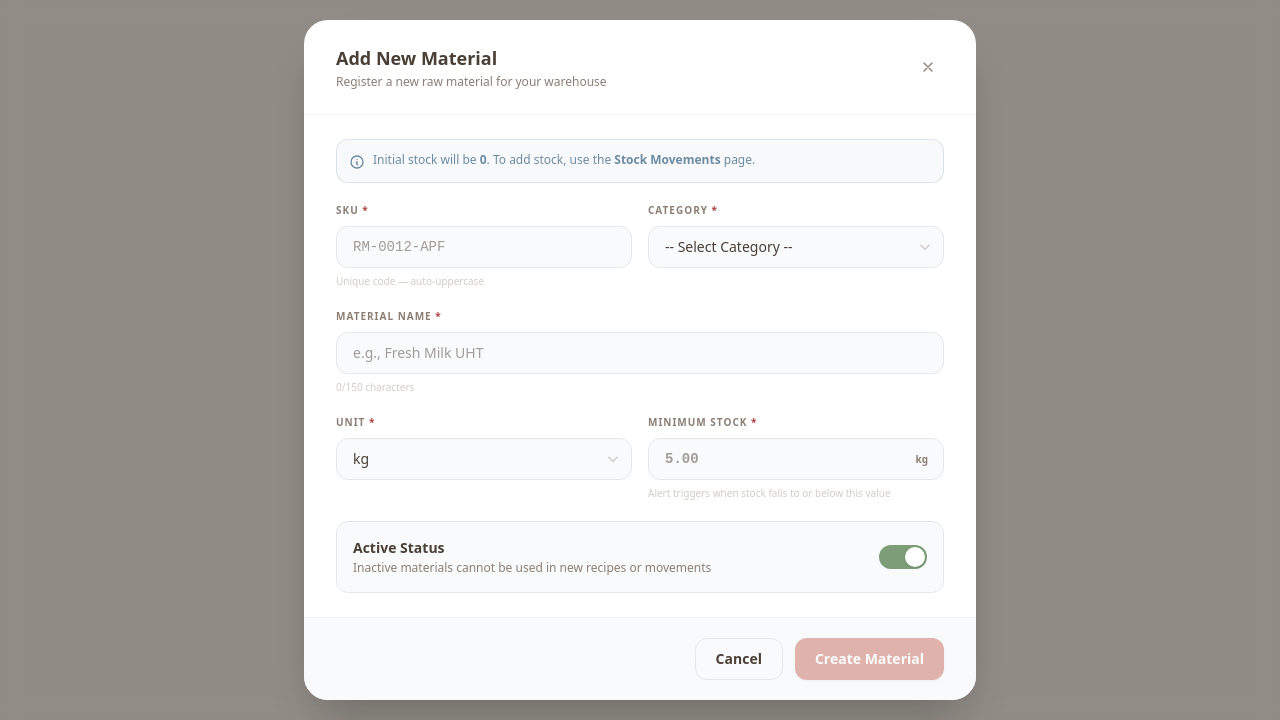
Test: MaterialFormModal.vue (Component Testing) › Error Display › [Happy Path] counter karakter name ter-update
Type "Milk" into the field with placeholder "e.g., Fresh Milk UHT" at (640, 353), box [336,332,944,374]
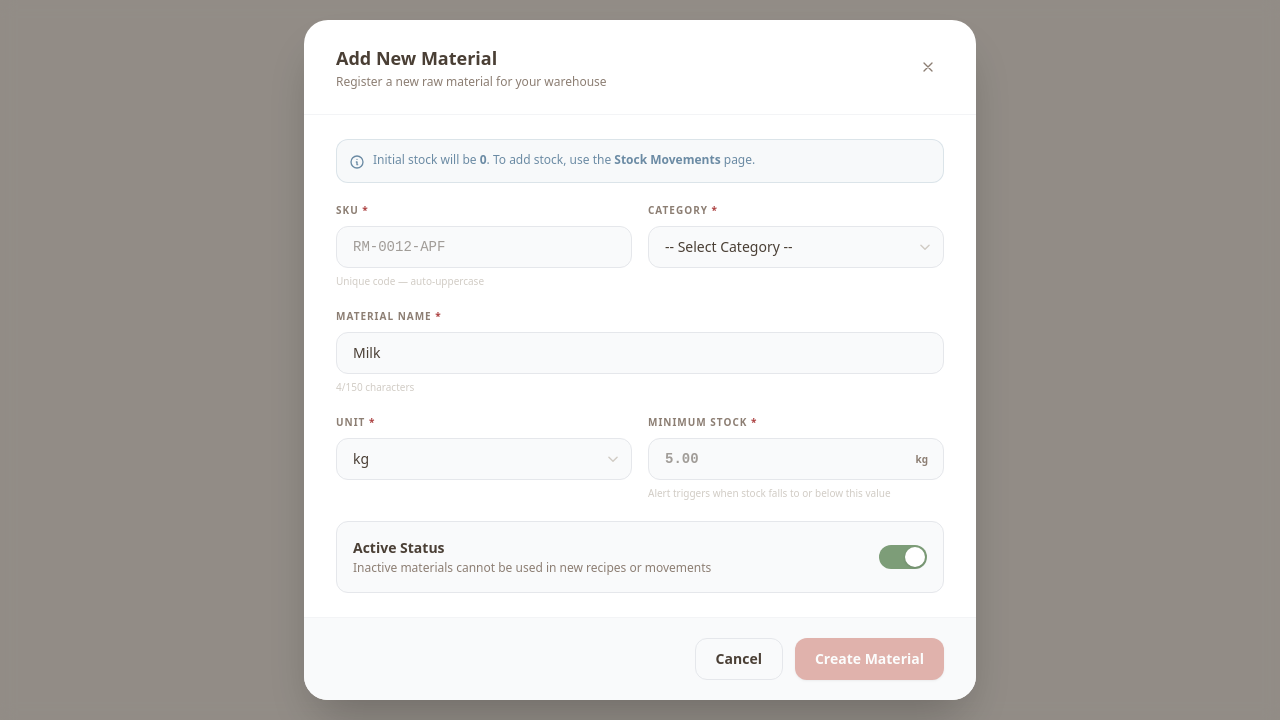
expect the text "4/150 characters" is shown: met, box [336,380,414,394]
